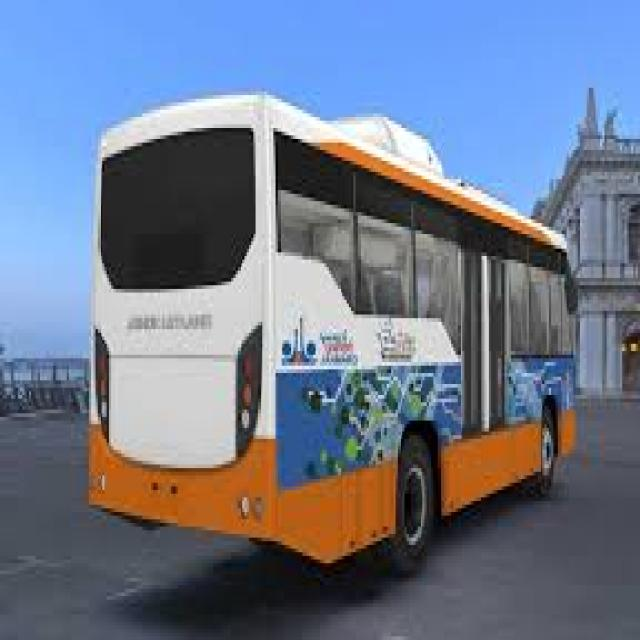BUS: (56, 84, 594, 545)
